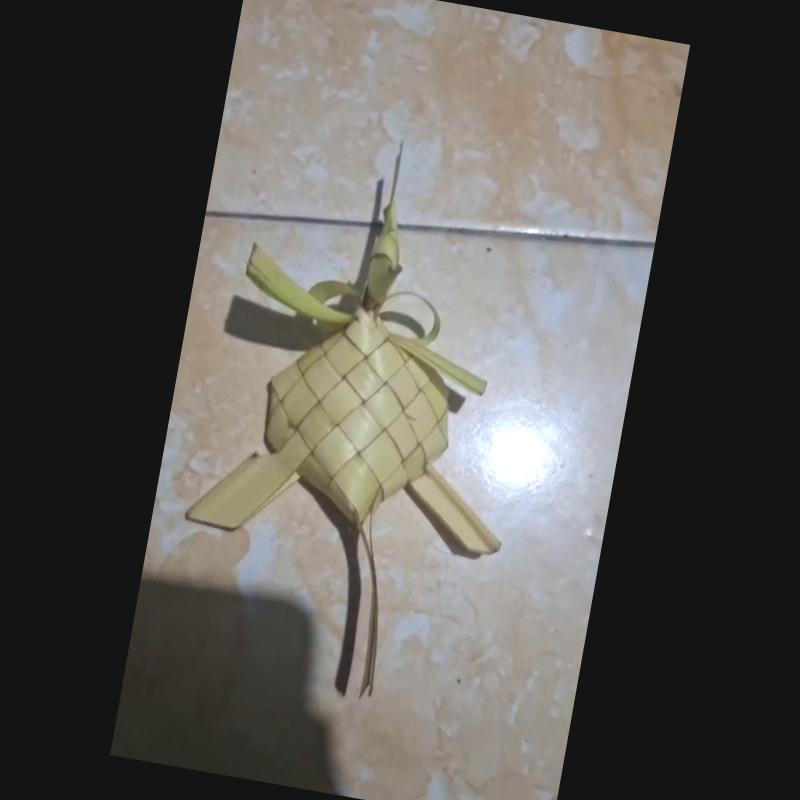Tipat Dampulan: (173, 144, 502, 719)
